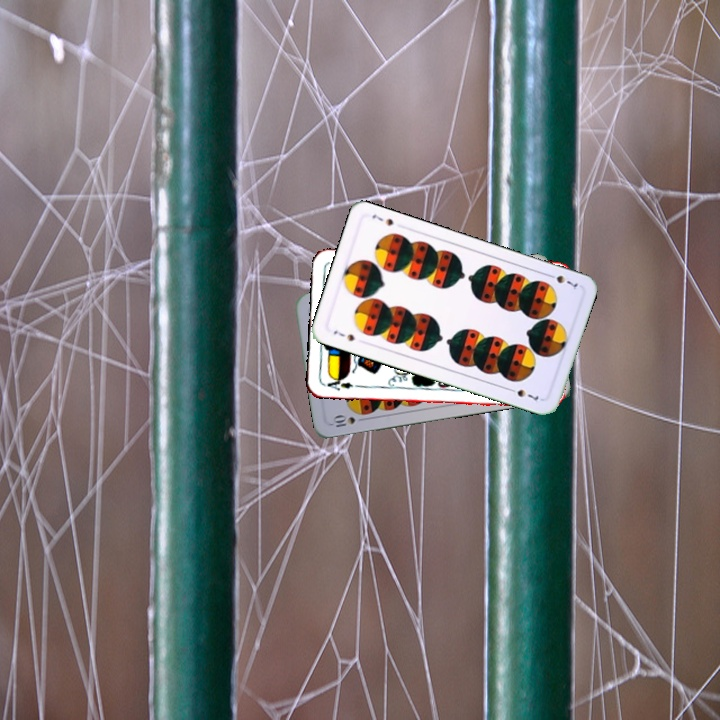EA: (321, 373, 356, 393)
S10: (328, 412, 368, 430)
S7: (543, 270, 580, 292), (329, 326, 357, 344)
